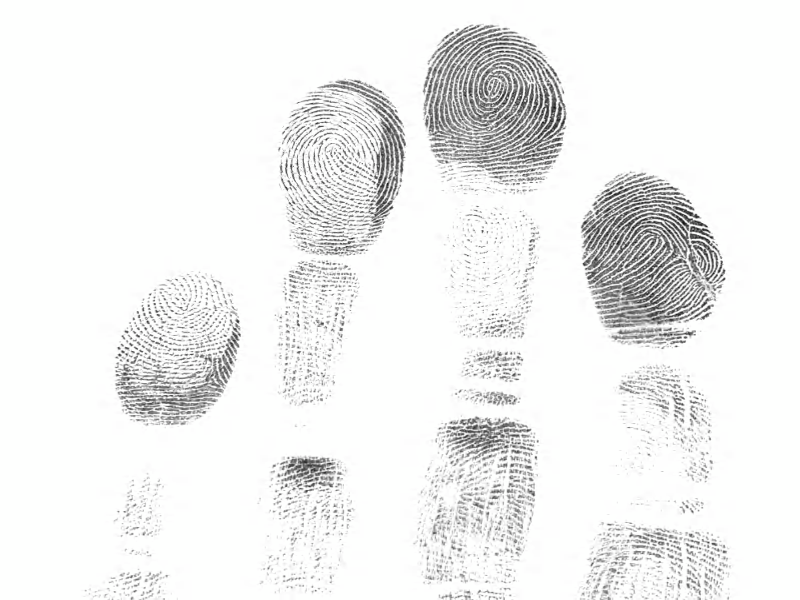D: (573, 165, 729, 351), (267, 65, 413, 258), (417, 20, 570, 199), (109, 265, 246, 430)
P: (429, 197, 557, 400), (256, 253, 378, 426), (603, 359, 728, 516), (100, 451, 197, 556)
